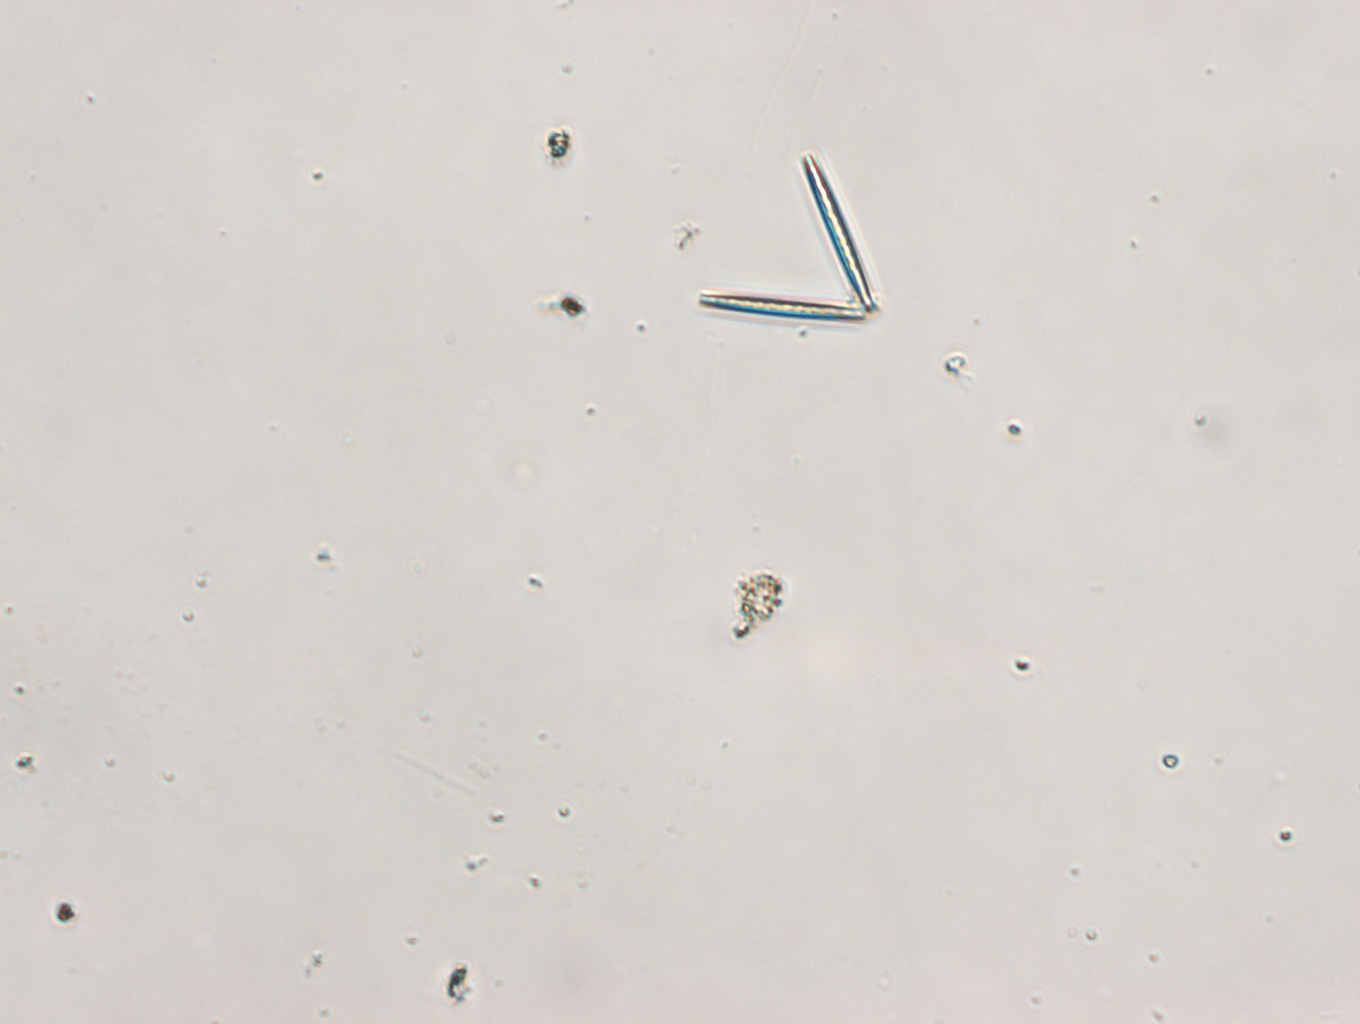thalassionema nitzschioides: (695, 152, 883, 327)
